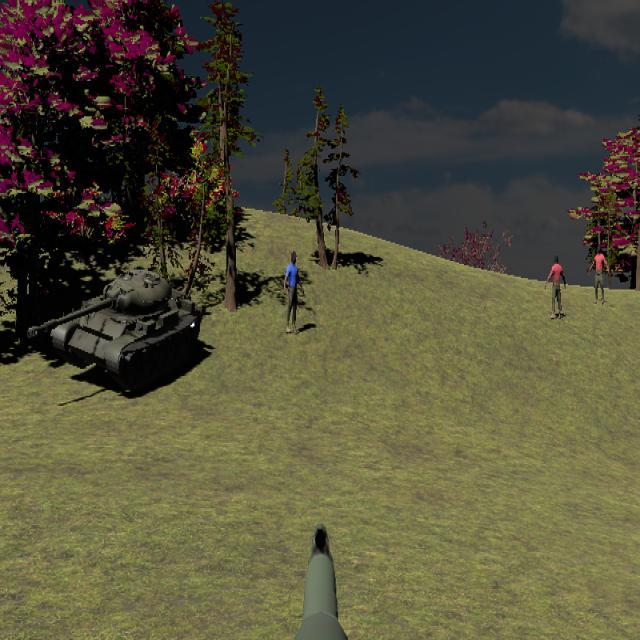Human: (284, 251, 305, 334), (545, 254, 567, 319), (589, 244, 611, 305)
Tank: (26, 269, 203, 390)
